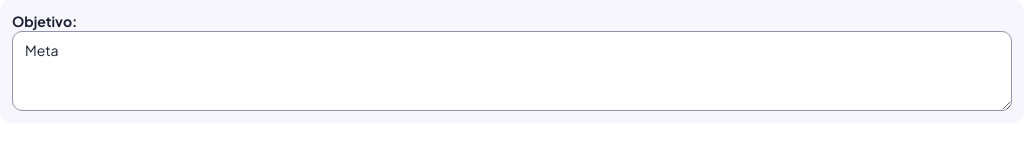
Test: escribir seguido sin perder el cursor › un campo suelto acepta una palabra entera
Type " clara" into the text box at (512,71), box [12,31,1012,111]
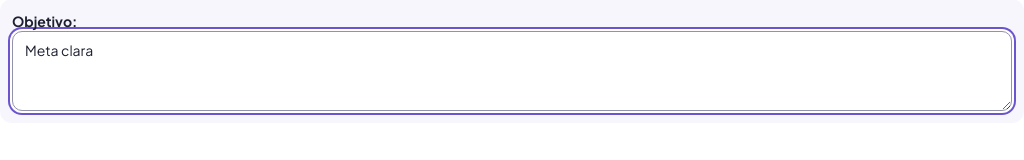
Check: the text box holds "Meta clara", box [12,31,1012,111]
